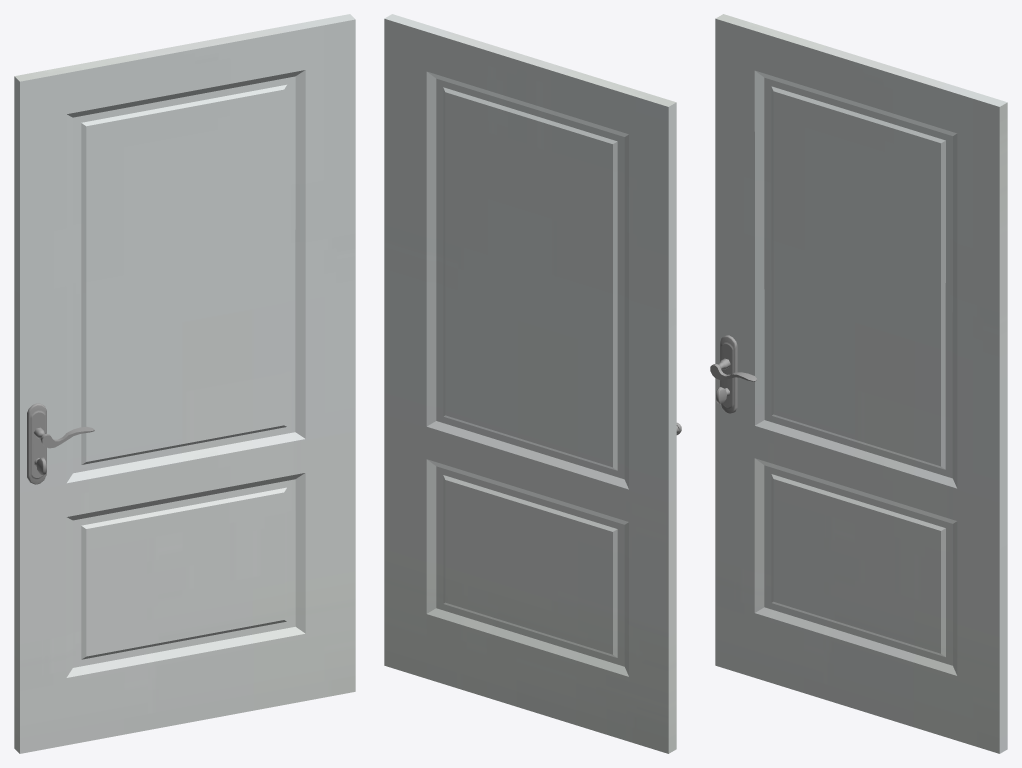
The model's file is men03.fbx.
3 views of the same model, side by side, from view 1: azimuth 30°, elevation 25°; view 2: azimuth 150°, elevation 25°; view 3: azimuth 330°, elevation 25° (orthographic). The views are drawn at different scales.
Visible parts, largest first — view 1: men03; view 2: men03; view 3: men03.
Boxes of the visible parts, x1=… form: men03: x1=14, y1=14, x2=355, y2=753; men03: x1=384, y1=14, x2=681, y2=753; men03: x1=710, y1=14, x2=1007, y2=753.
Size of the model in its own units: 103 by 210 by 15.39.
